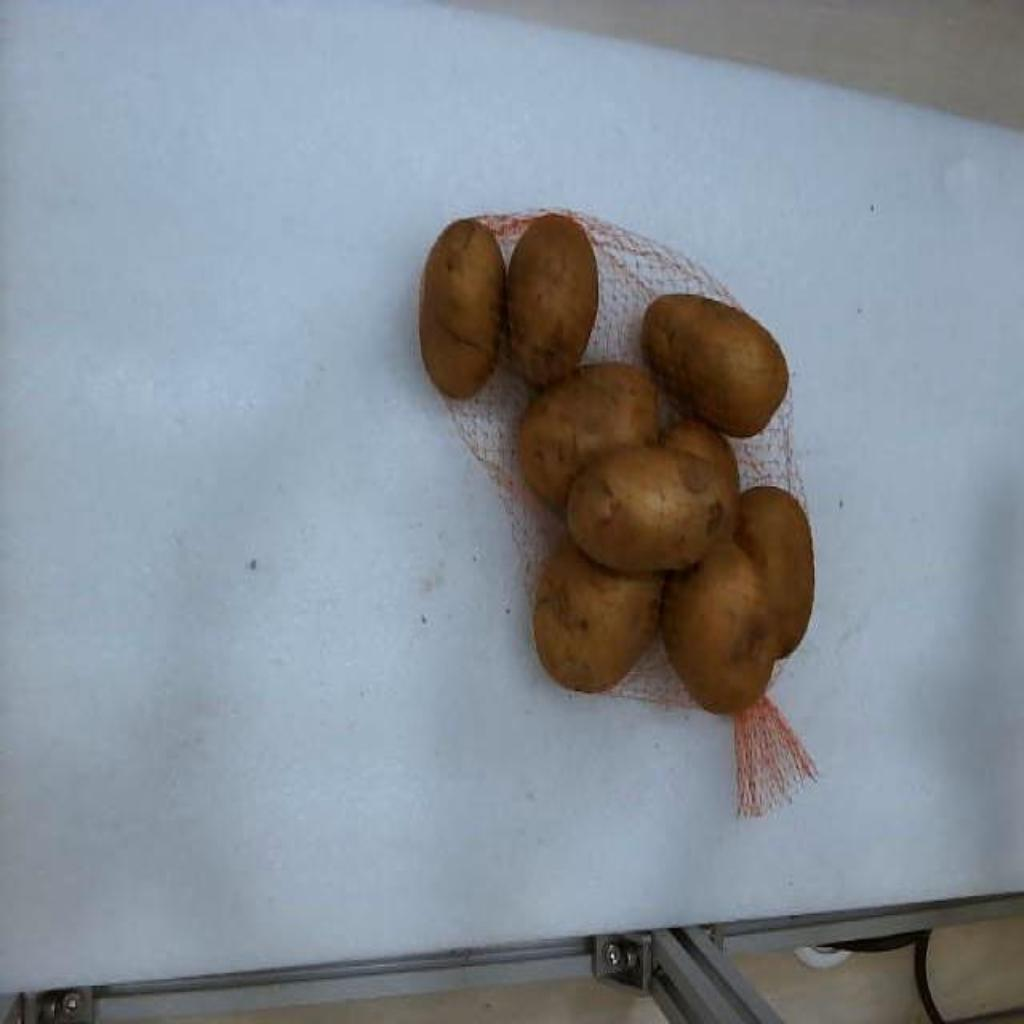potato: (566, 445, 738, 572), (644, 293, 788, 436), (534, 539, 664, 692), (520, 363, 658, 505), (662, 541, 776, 712), (506, 216, 598, 384), (420, 219, 504, 396), (734, 488, 812, 657)
